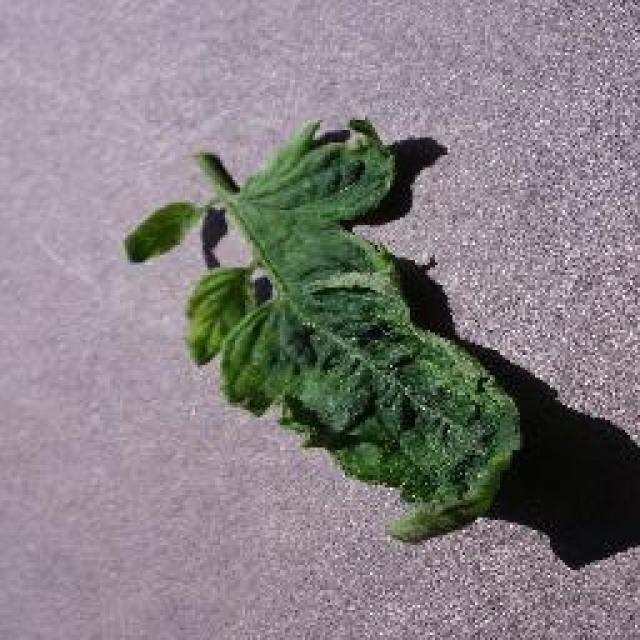Tomato___Tomato_mosaic_virus: (125, 120, 518, 540)
